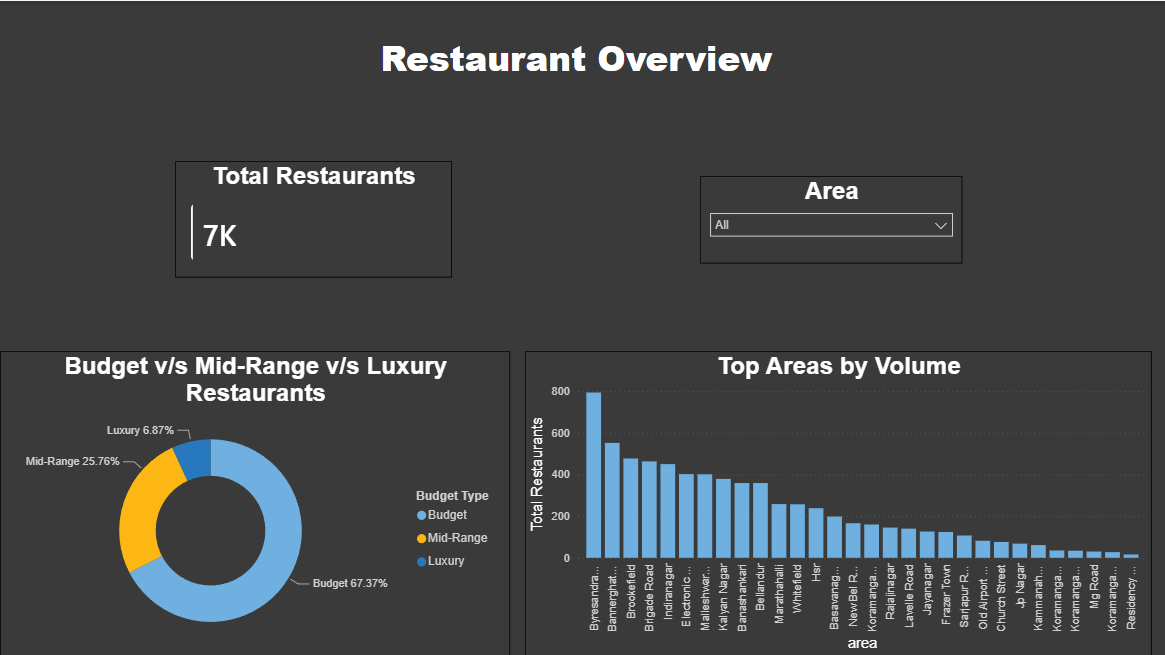

What the dashboard file says about the page in this screenshot:
{"tool":"powerbi","page":{"name":"Restaurant Overview","canvas":[1280,720],"ordinal":0},"visuals":[{"type":"slicer","title":"Area","fields":{"Values":["cleaned_dataset.area"]},"box":[768,192,288,96],"z":0},{"type":"cardVisual","title":"Total Restaurants","fields":{"Data":["cleaned_dataset.Total_Restaurants"]},"box":[192,176,304,128],"z":1000},{"type":"donutChart","title":"Budget v/s Mid-Range v/s Luxury Restaurants","fields":{"Category":["cleaned_dataset.Budget Type"],"Y":["CountNonNull(cleaned_dataset.restaurant name)"]},"box":[0,384,560,336],"z":2000},{"type":"clusteredColumnChart","title":"Top Areas by Volume","fields":{"Category":["cleaned_dataset.area"],"Y":["CountNonNull(cleaned_dataset.restaurant name)"]},"box":[576,384,688,336],"z":3000},{"type":"textbox","box":[352,32,560,80],"z":4000}]}

Visuals, with their boxes in screenshot pixels (x1, y1, x2, y2), scaled from the page's 1280x720 canvas onto the 1165x655 screenshot:
"Area" slicer: <region>699, 175, 961, 262</region>
"Total Restaurants" cardVisual: <region>175, 160, 451, 277</region>
"Budget v/s Mid-Range v/s Luxury Restaurants" donutChart: <region>0, 349, 510, 654</region>
"Top Areas by Volume" clusteredColumnChart: <region>524, 349, 1150, 654</region>
textbox: <region>320, 29, 830, 102</region>
